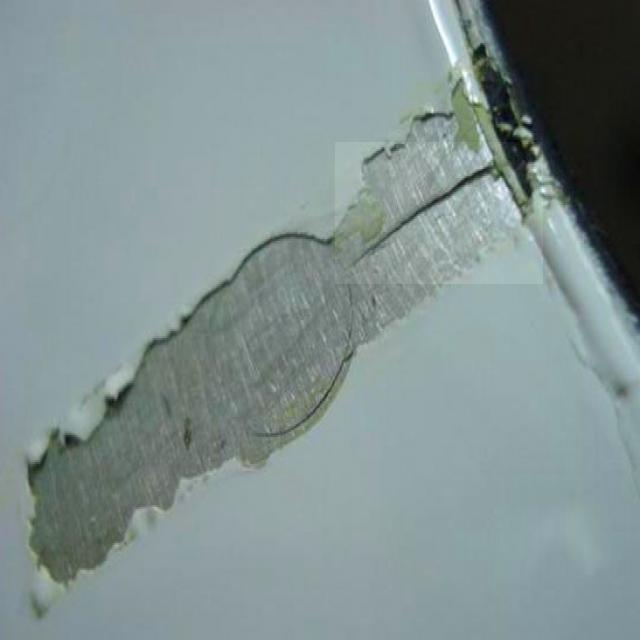crack: (336, 143, 544, 285)
